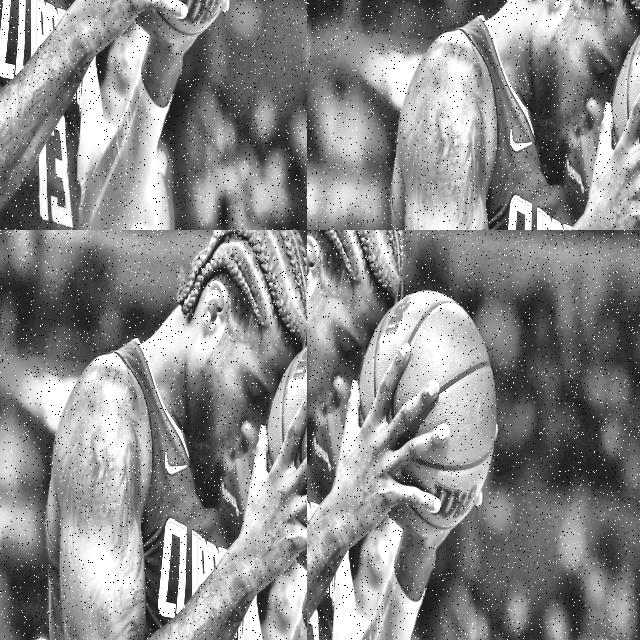Basketball: (360, 291, 497, 535), (12, 233, 36, 280)
